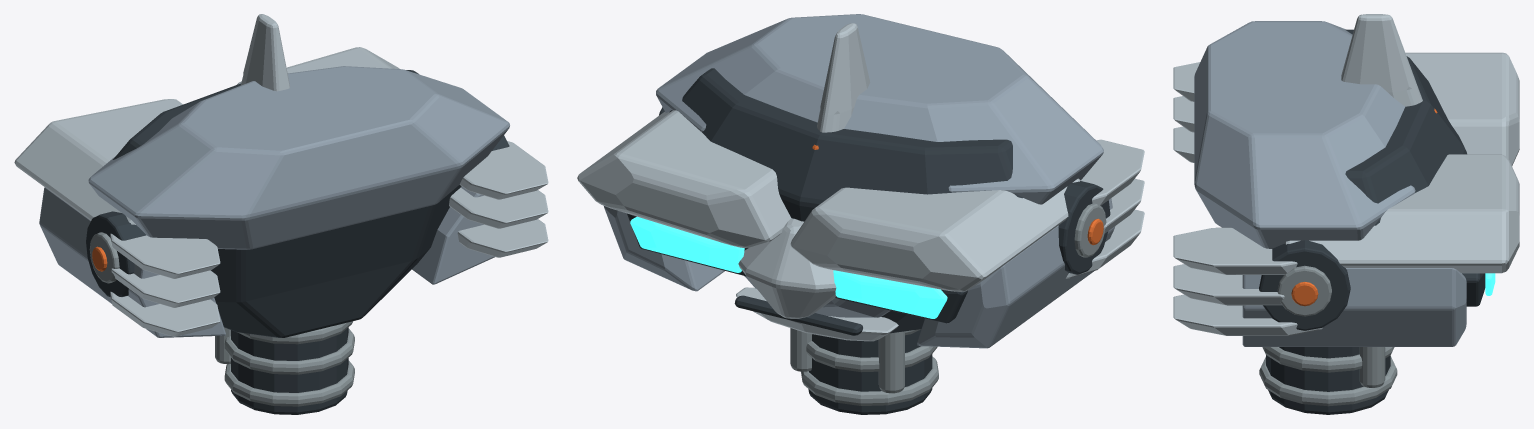
3 renders of one model, left to right at view 1: azimuth 30°, elevation 25°; view 2: azimuth 150°, elevation 25°; view 3: azimuth 270°, elevation 25°, orthographic. The views are drawn at different scales.
Parts seen in each view (by area): view 1: Head_hero; view 2: Head_hero; view 3: Head_hero.
Boxes of the visible parts, x1=… form: Head_hero: x1=14, y1=14, x2=548, y2=414; Head_hero: x1=577, y1=14, x2=1144, y2=414; Head_hero: x1=1173, y1=14, x2=1519, y2=414.
Size of the model in its own units: 0.7409 by 0.6212 by 0.5196.
